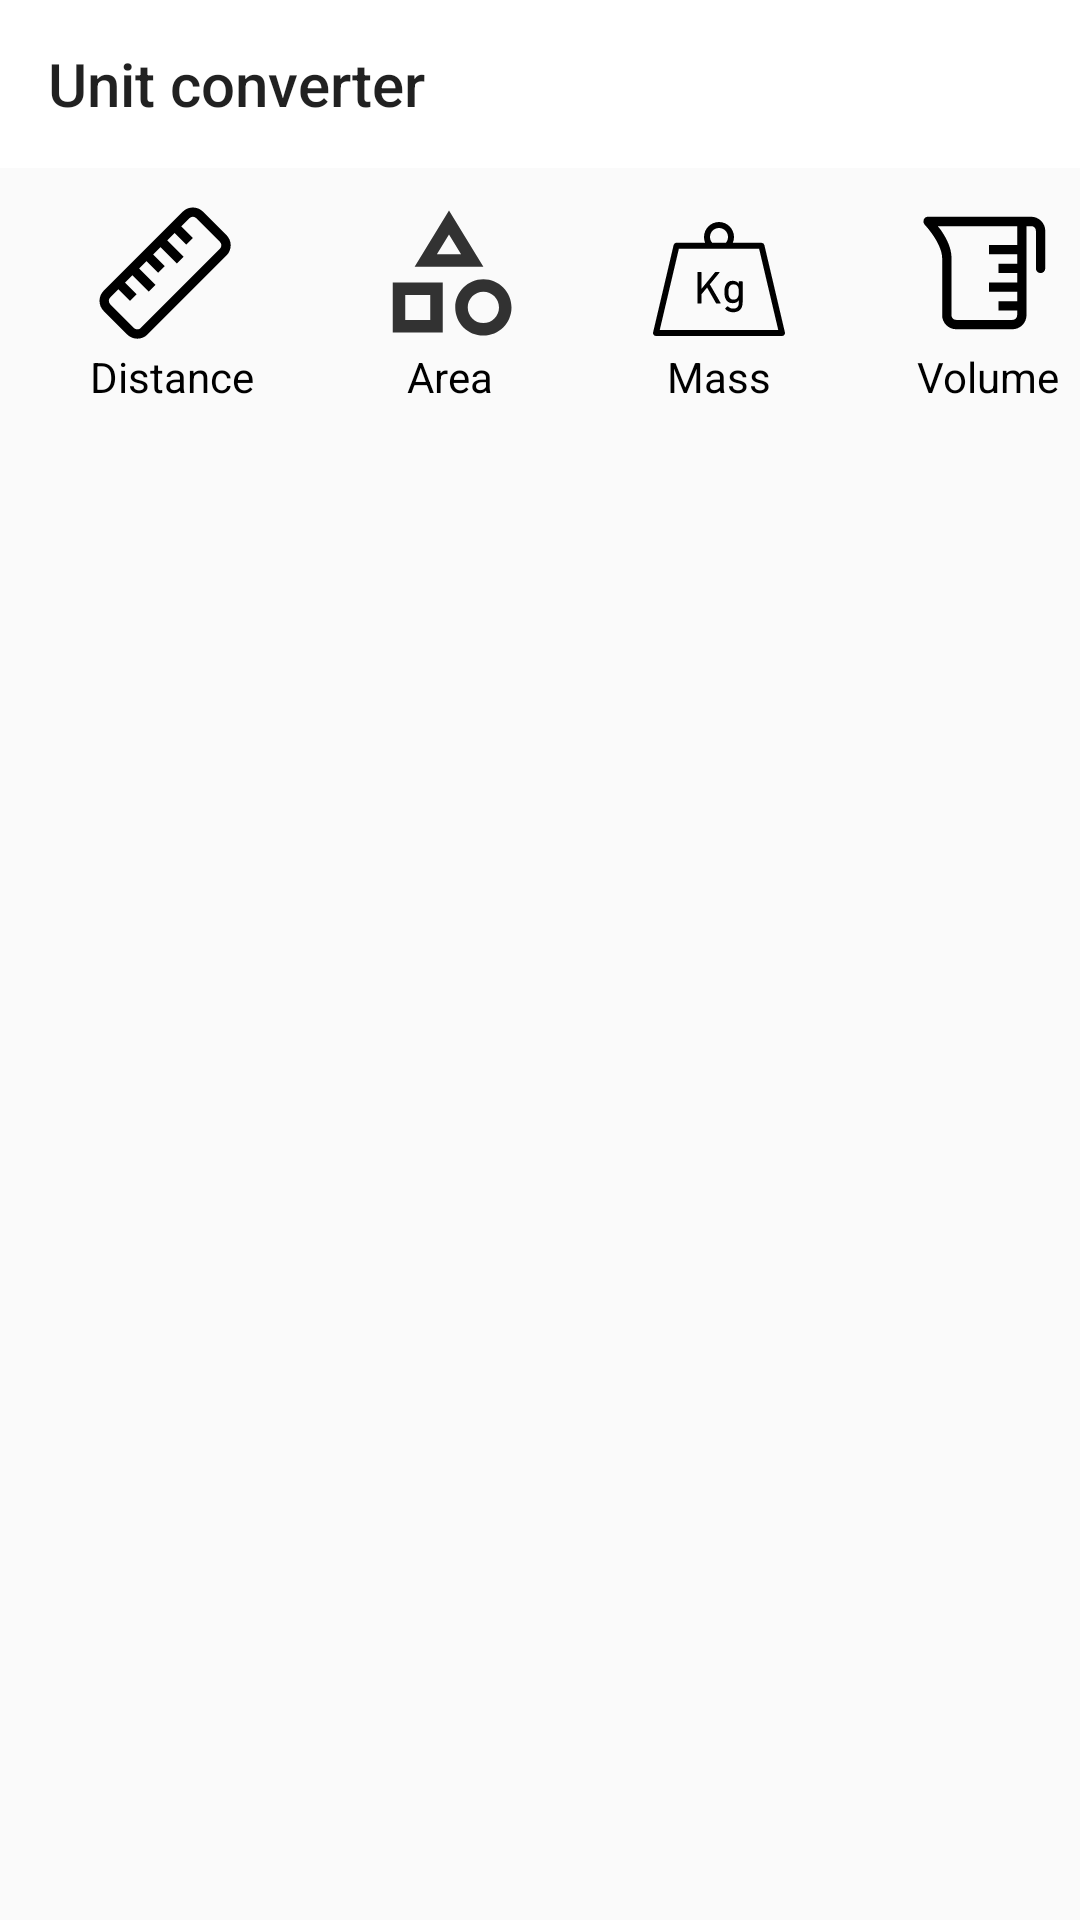

Screen size 1080w x 1920h. Icon name, then its center in pixels as (x,y):
weight: (719,279)
